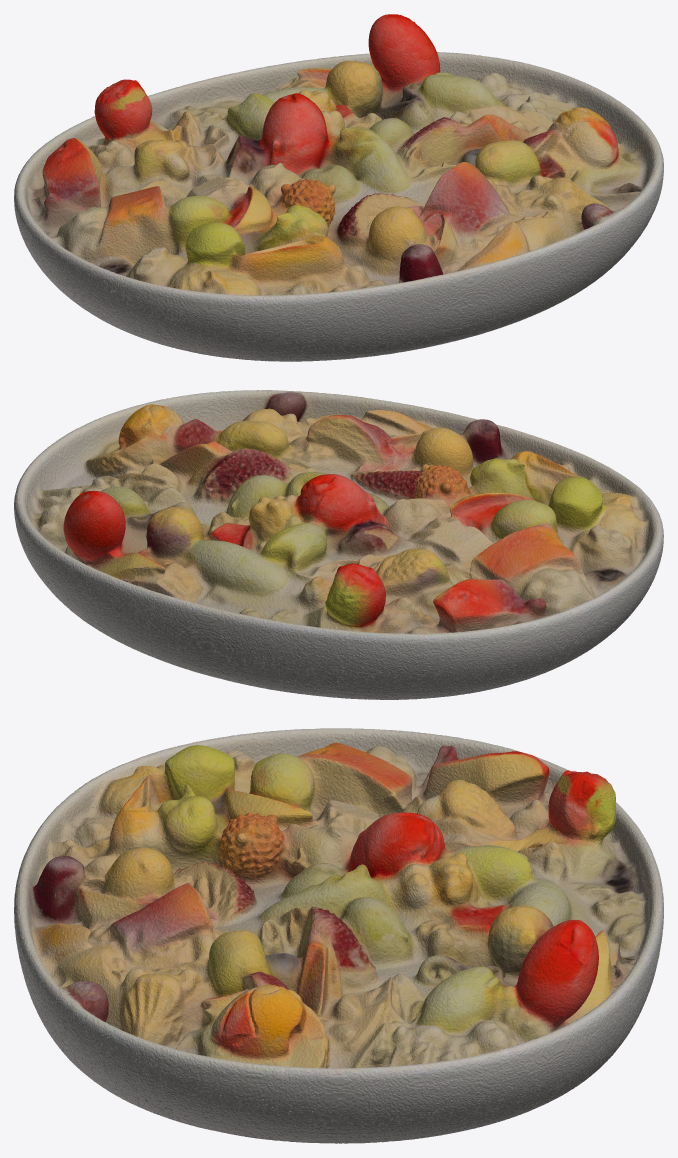
Rendered from fruit_chaat.glb.
The picture shows the model from 3 angles, top to bottom: view 1: azimuth 30°, elevation 25°; view 2: azimuth 150°, elevation 25°; view 3: azimuth 270°, elevation 25°; orthographic projection. The views are drawn at different scales.
Visible parts, largest first — view 1: tripo_node_4960ef9f-0a2e-4de9-8e62-b36525bce5b9; view 2: tripo_node_4960ef9f-0a2e-4de9-8e62-b36525bce5b9; view 3: tripo_node_4960ef9f-0a2e-4de9-8e62-b36525bce5b9.
Boxes of the visible parts, x1,y1,x2,y2 form: tripo_node_4960ef9f-0a2e-4de9-8e62-b36525bce5b9: (14, 14, 663, 361); tripo_node_4960ef9f-0a2e-4de9-8e62-b36525bce5b9: (14, 390, 663, 699); tripo_node_4960ef9f-0a2e-4de9-8e62-b36525bce5b9: (14, 728, 663, 1143).
Size of the model in its own units: 0.9998 by 0.255 by 0.7952.
1 material, 1 textured.
